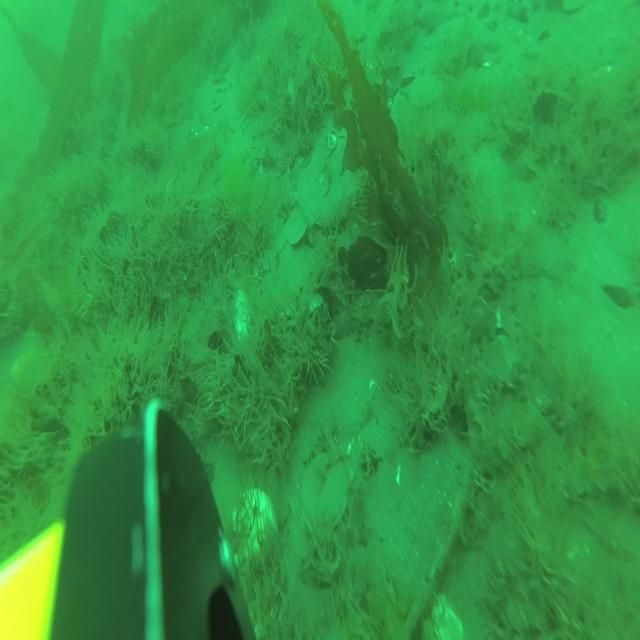scallop: (301, 452, 353, 530), (232, 490, 278, 572), (428, 587, 465, 640), (234, 283, 255, 341)
